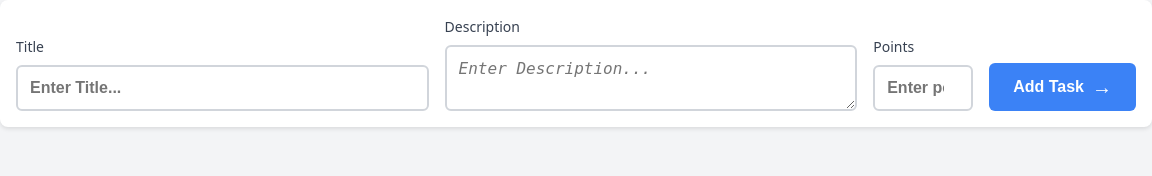
it: EntryForm › clears error when user starts typing
Click the button with test id "entry-form-submit" at (1063, 87), box [989,63,1136,111]
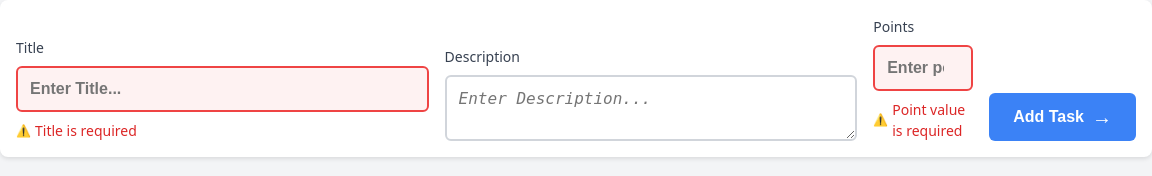
Result: the text "Title is required" is shown at [35,121,137,140]
Type "Test" into the field with test id "entry-form-title" at (222, 89), box [16,66,429,112]
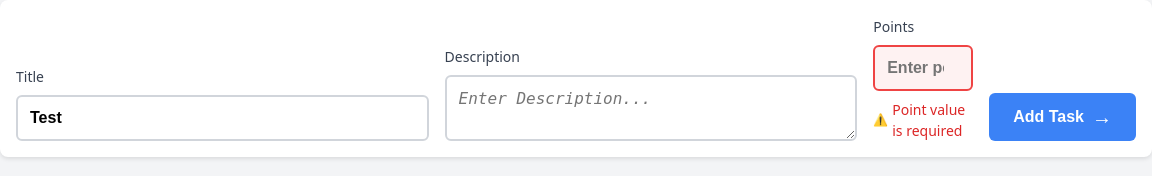
Result: the text "Title is required" is gone
